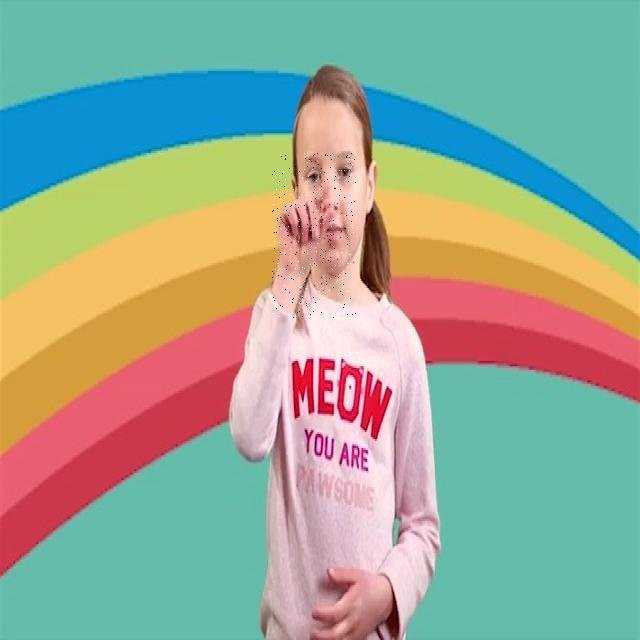chicken: (272, 153, 356, 318)
